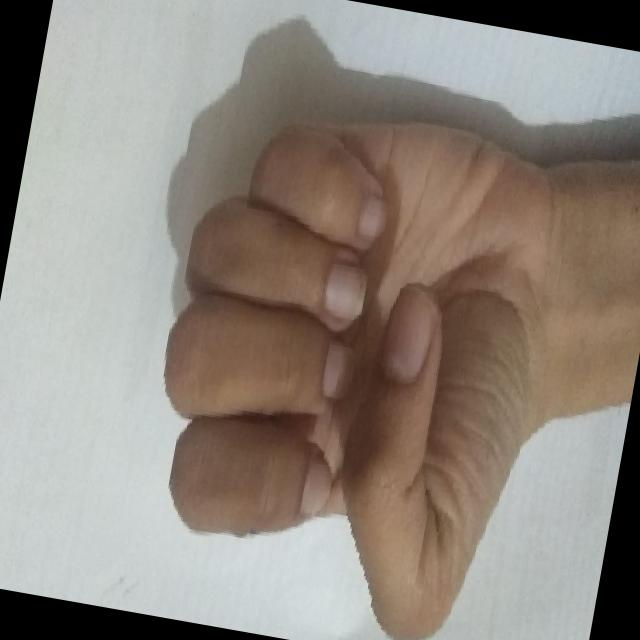Nail: (382, 286, 436, 383), (322, 263, 366, 320), (298, 446, 332, 516), (320, 340, 352, 399), (356, 195, 385, 239)
